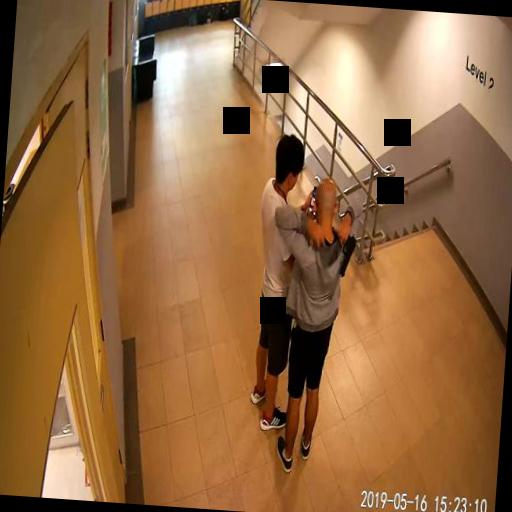Handgun: (335, 228, 355, 276)
